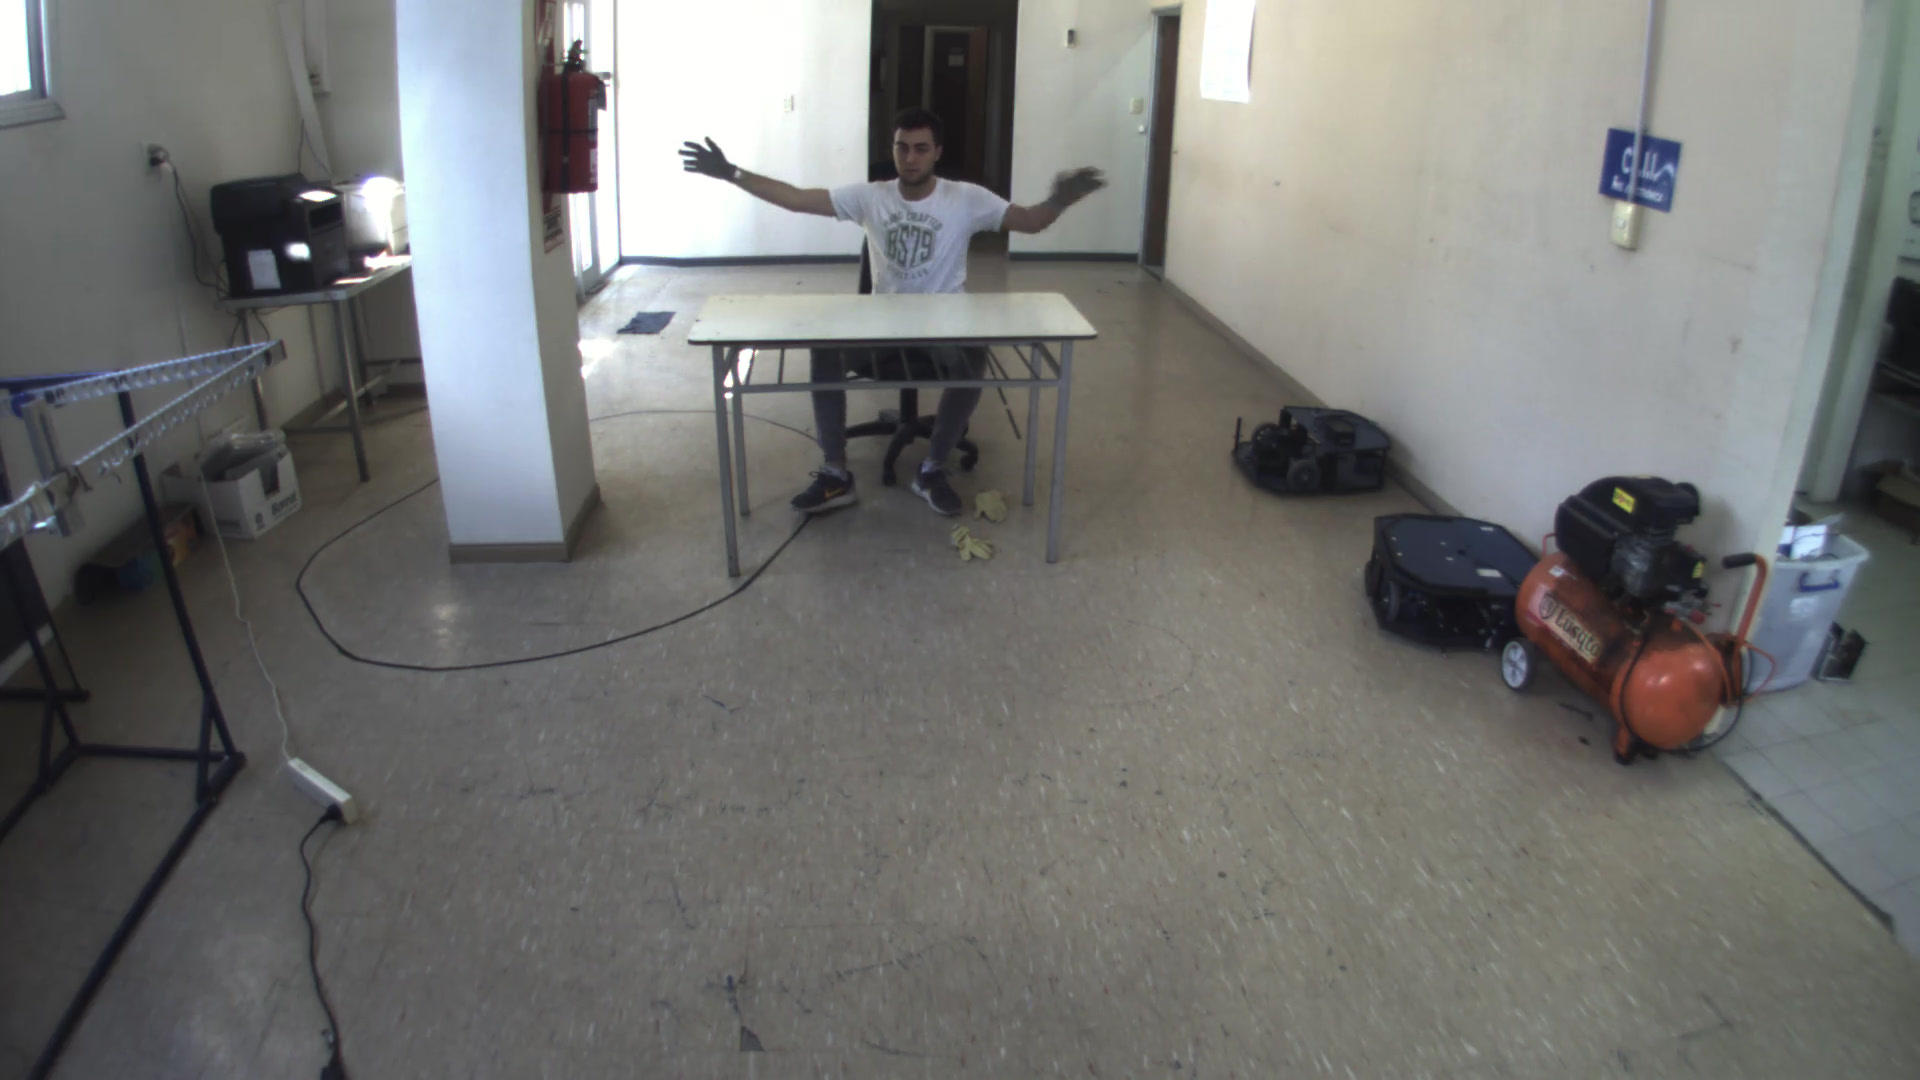hand: (1029, 164, 1121, 228), (673, 129, 746, 196)
